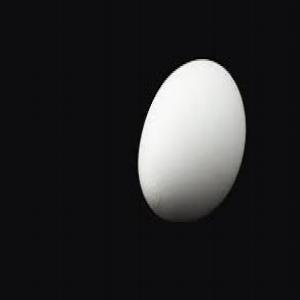Egg: (138, 59, 246, 222)
